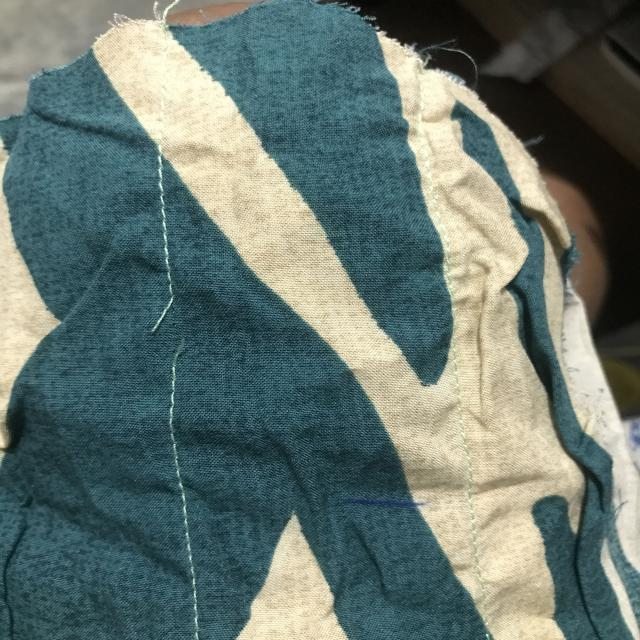broken: (133, 286, 214, 372)
good: (152, 440, 198, 538)
